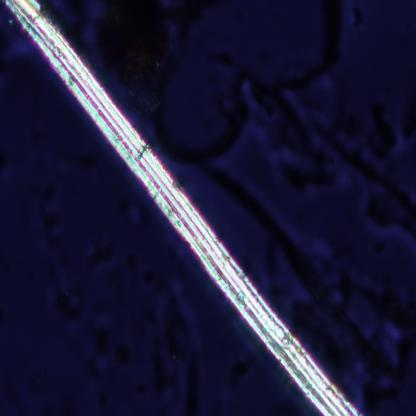Anthropogenic: (5, 0, 362, 416)
